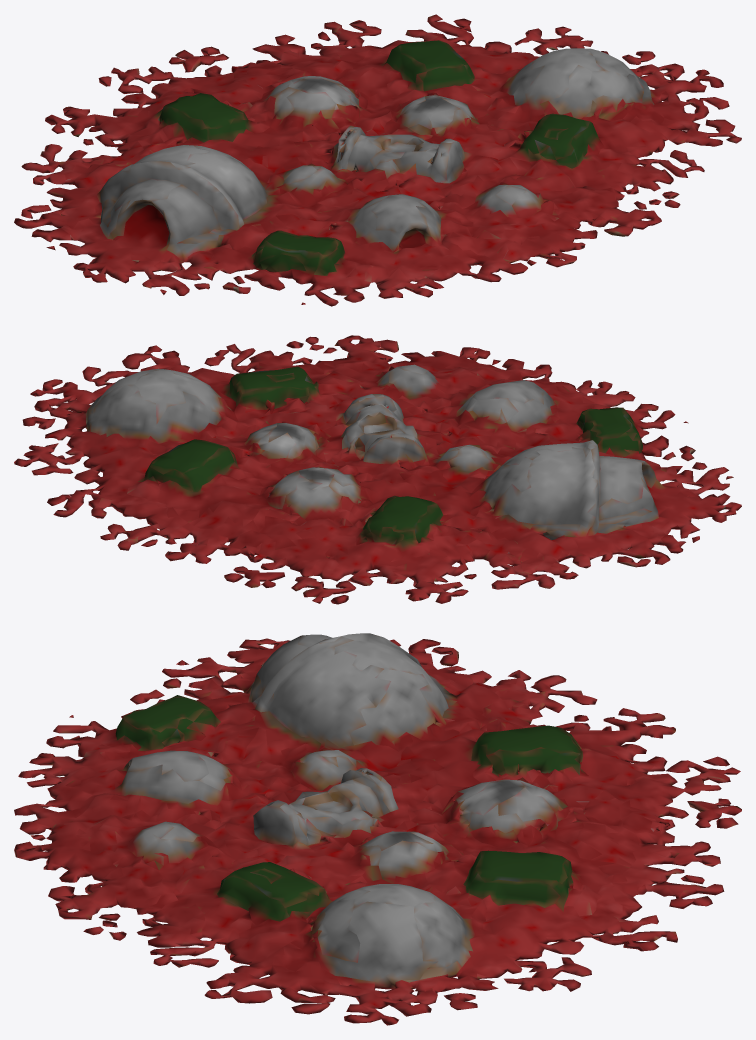
Rendered from PLAYW0.obj.
The picture shows the model from 3 angles, top to bottom: view 1: azimuth 30°, elevation 25°; view 2: azimuth 150°, elevation 25°; view 3: azimuth 270°, elevation 25°; orthographic projection. The views are drawn at different scales.
Size of the model in its own units: 0.9985 by 0.1251 by 0.7998.
Materials: 1 (1 with a texture image).
